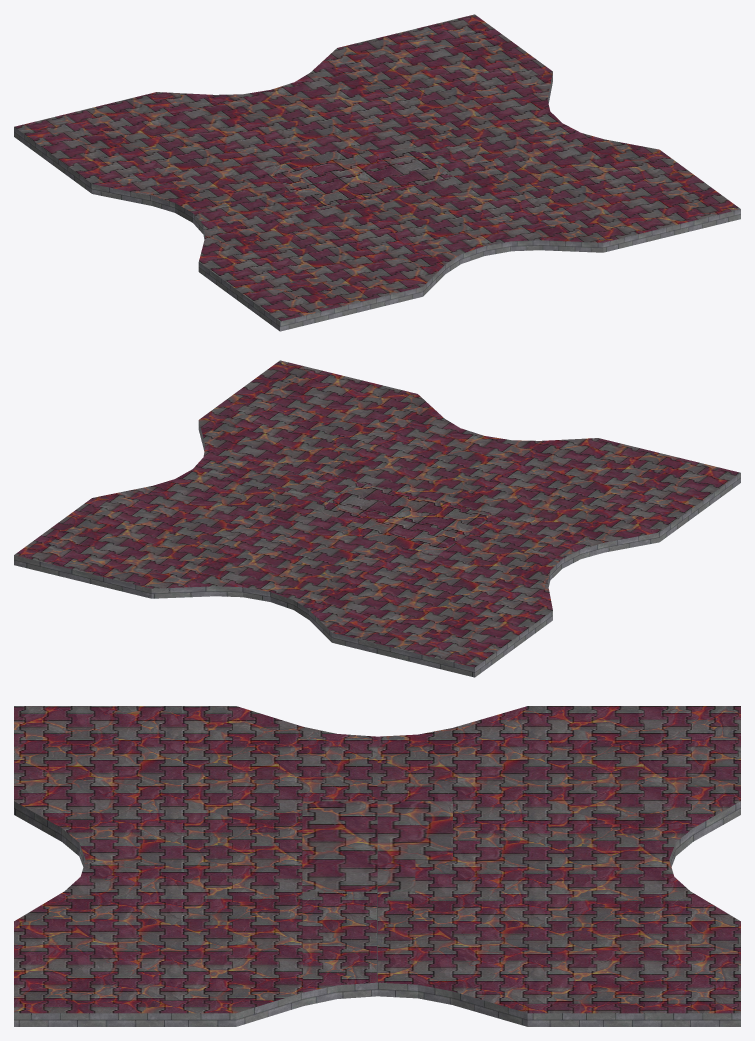
Rendered from center.fbx.
3 views of the same model, one above another, from view 1: azimuth 30°, elevation 25°; view 2: azimuth 150°, elevation 25°; view 3: azimuth 270°, elevation 25° (orthographic). The views are drawn at different scales.
Visible parts, largest first — view 1: center_point; view 2: center_point; view 3: center_point.
Part boxes in pixels (x1,y1,x2,y2): center_point: (14, 14, 740, 331); center_point: (14, 360, 740, 677); center_point: (14, 706, 740, 1026).
Size of the model in its own units: 167 by 3.47 by 167.
